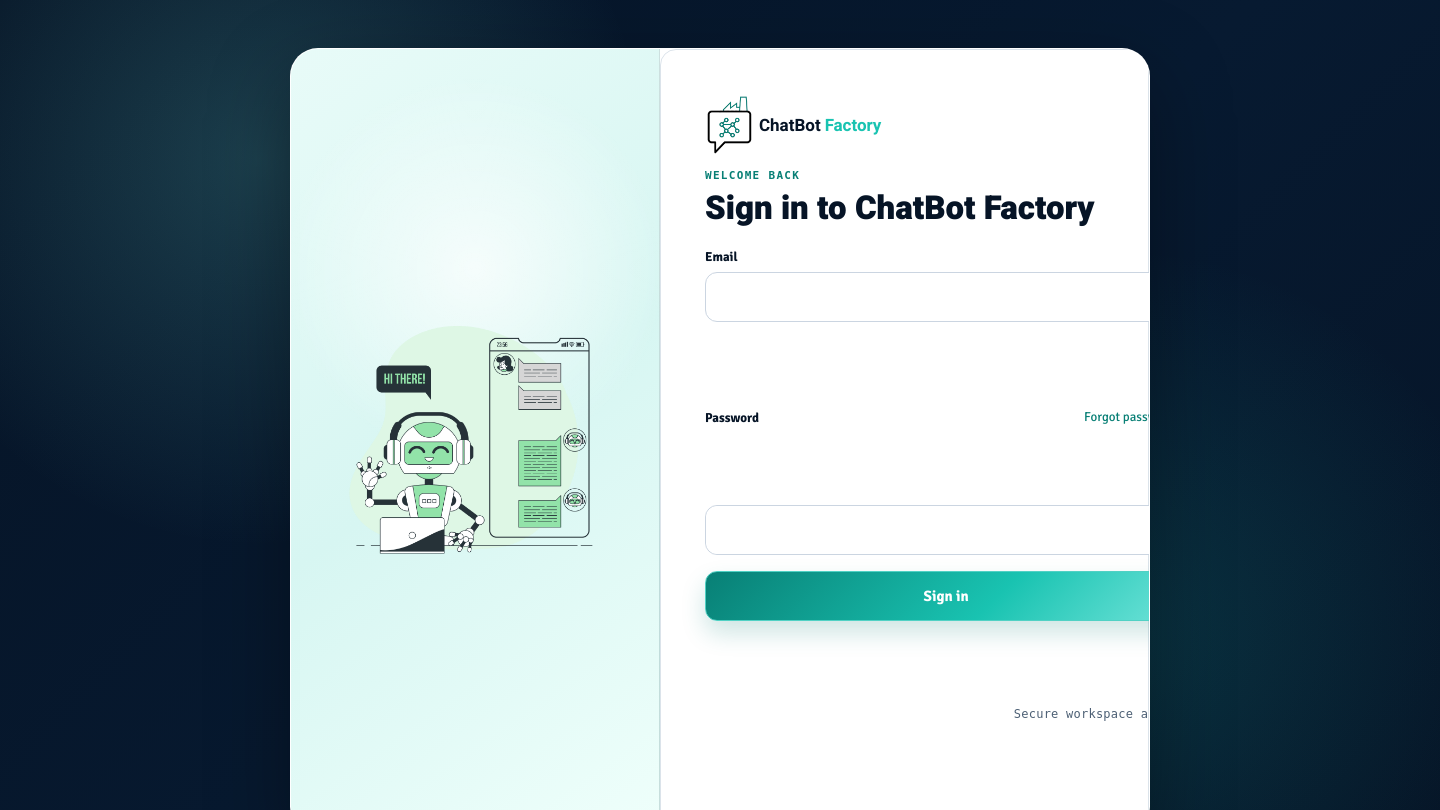
LoginComponent validation UX › keeps submit disabled when email format is invalid
Type "not-an-email" into the field with id "login-email" at (946, 297), box [705,272,1187,322]
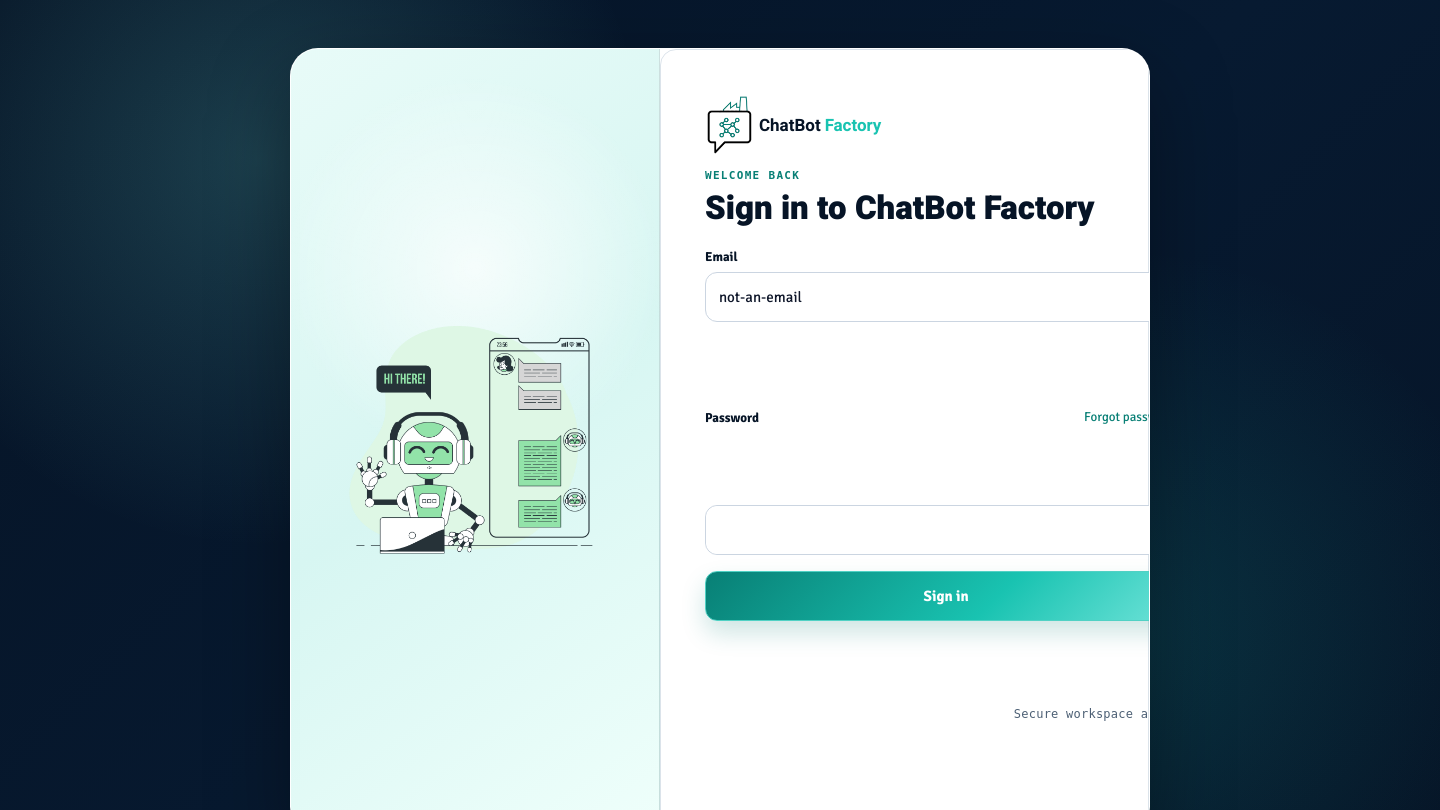
Type "password123" into the password field with id "login-password" at (794, 530), box [706,506,881,554]
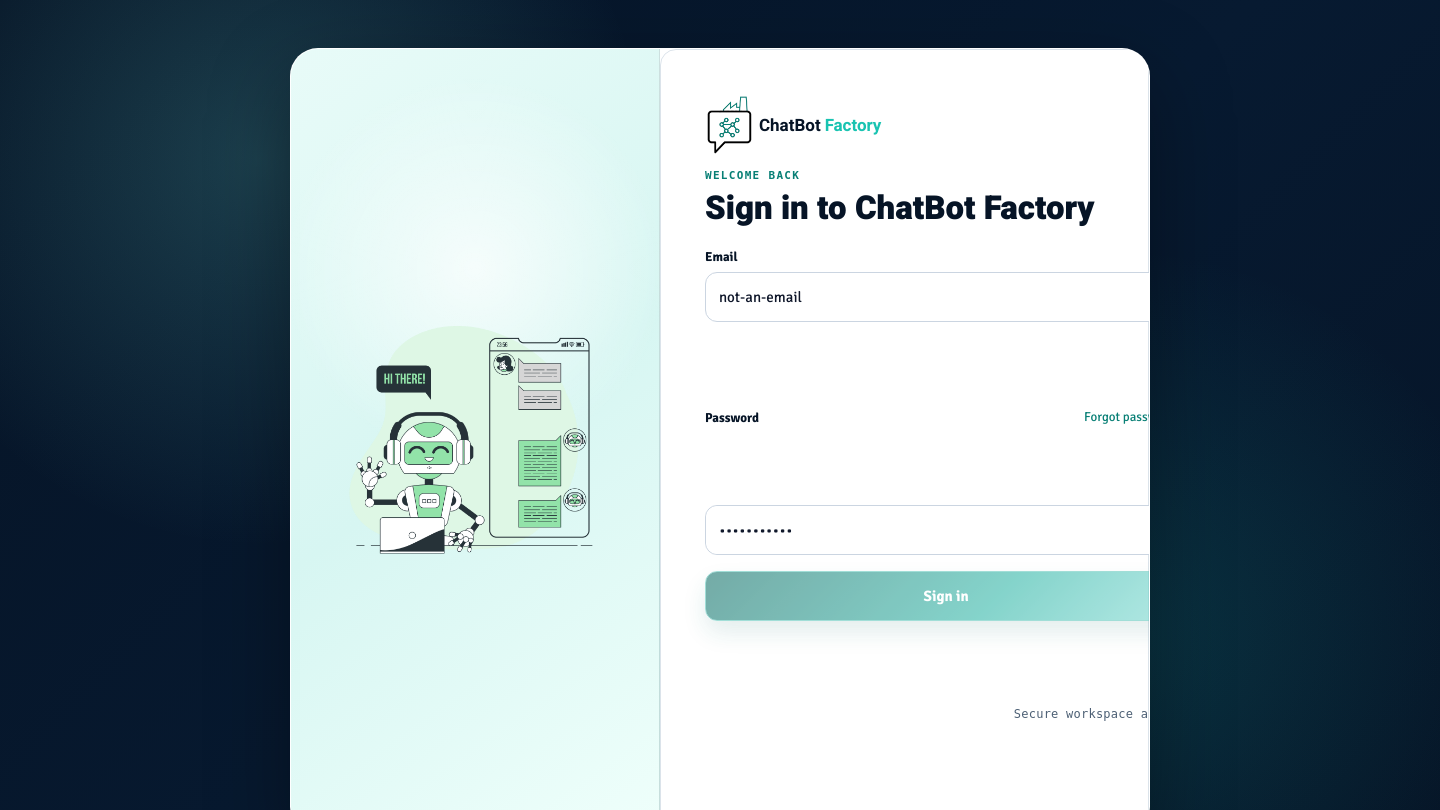
Now the button with class "auth-submit" is disabled, box [705,571,1150,621]
